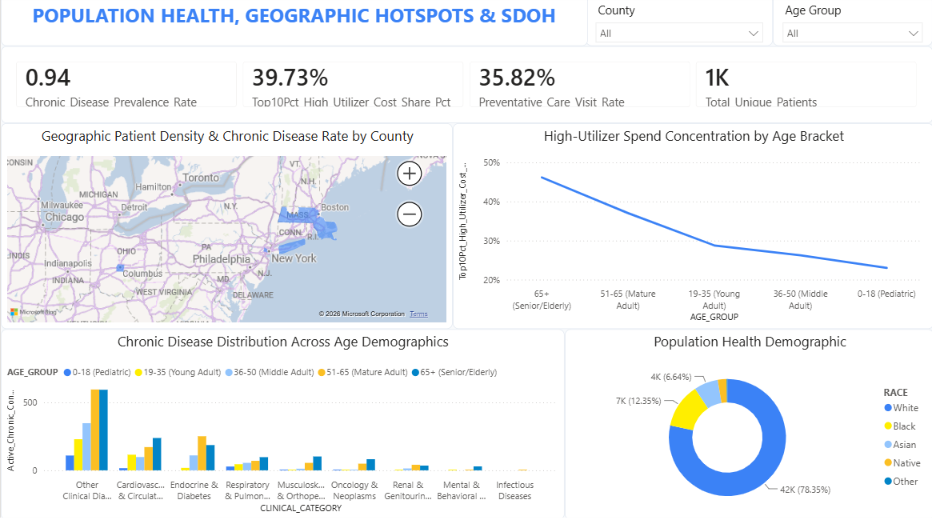

The page's visual inventory and layout, read from the dashboard file:
{"tool":"powerbi","page":{"name":"Population Health & SDoH","canvas":[1280,720],"ordinal":4},"visuals":[{"type":"slicer","fields":{"Values":["Dim_Patients.COUNTY"]},"box":[802.7,0,256.6,70],"z":0},{"type":"slicer","fields":{"Values":["Dim_Patients.AGE_GROUP"]},"box":[1059.4,0,219.6,70],"z":1000},{"type":"textbox","box":[0,0,805.5,70],"z":2000},{"type":"cardVisual","fields":{"Data":["_Measures.Chronic_Disease_Prevalence_Rate","_Measures.Top10Pct_High_Utilizer_Cost_Share_Pct","_Measures.Preventative_Care_Visit_Rate","_Measures.Total_Unique_Patients"]},"box":[0,70,1278.9,105.7],"z":3000},{"type":"filledMap","title":"Geographic Patient Density & Chronic Disease Rate by County","fields":{"Category":["Dim_Patients.COUNTY"]},"box":[0,175.6,620.2,282.7],"z":4000},{"type":"lineChart","title":"High-Utilizer Spend Concentration by Age Bracket","fields":{"Category":["Dim_Patients.AGE_GROUP"],"Y":["_Measures.Top10Pct_High_Utilizer_Cost_Share_Pct"]},"box":[620.2,175.6,660,282.7],"z":5000},{"type":"donutChart","title":"Population Health Demographic","fields":{"Category":["Dim_Patients.RACE"],"Y":["_Measures.Total_Encounters"]},"box":[773.3,458.3,506.7,261.7],"z":6000},{"type":"clusteredColumnChart","title":"Chronic Disease Distribution Across Age Demographics","fields":{"Category":["Fact_Conditions.CLINICAL_CATEGORY"],"Series":["Dim_Patients.AGE_GROUP"],"Y":["_Measures.Active_Chronic_Conditions_Count"]},"box":[0,458.3,773.3,261.7],"z":7000}]}

Visuals, with their boxes in screenshot pixels (x1, y1, x2, y2), scaled from the page's 1280x720 canvas onto the 932x518 screenshot:
slicer - Dim_Patients.COUNTY: (left=584, top=0, right=771, bottom=50)
slicer - Dim_Patients.AGE_GROUP: (left=771, top=0, right=931, bottom=50)
textbox: (left=0, top=0, right=587, bottom=50)
cardVisual - _Measures.Chronic_Disease_Prevalence_Rate x _Measures.Top10Pct_High_Utilizer_Cost_Share_Pct: (left=0, top=50, right=931, bottom=126)
"Geographic Patient Density & Chronic Disease Rate by County" filledMap: (left=0, top=126, right=452, bottom=330)
"High-Utilizer Spend Concentration by Age Bracket" lineChart: (left=452, top=126, right=931, bottom=330)
"Population Health Demographic" donutChart: (left=563, top=330, right=931, bottom=517)
"Chronic Disease Distribution Across Age Demographics" clusteredColumnChart: (left=0, top=330, right=563, bottom=517)
